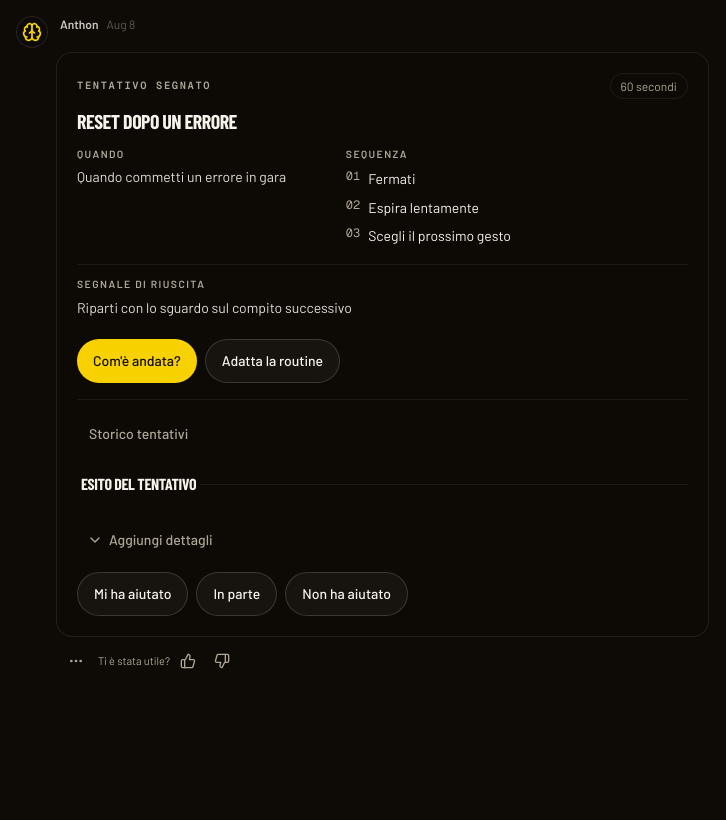
Test: MessageList rendered interactions › renders a canonical hydrated card without retaining unsafe attachment fields
Click the button "Aggiungi dettagli" at (150, 540), box [77,520,223,560]
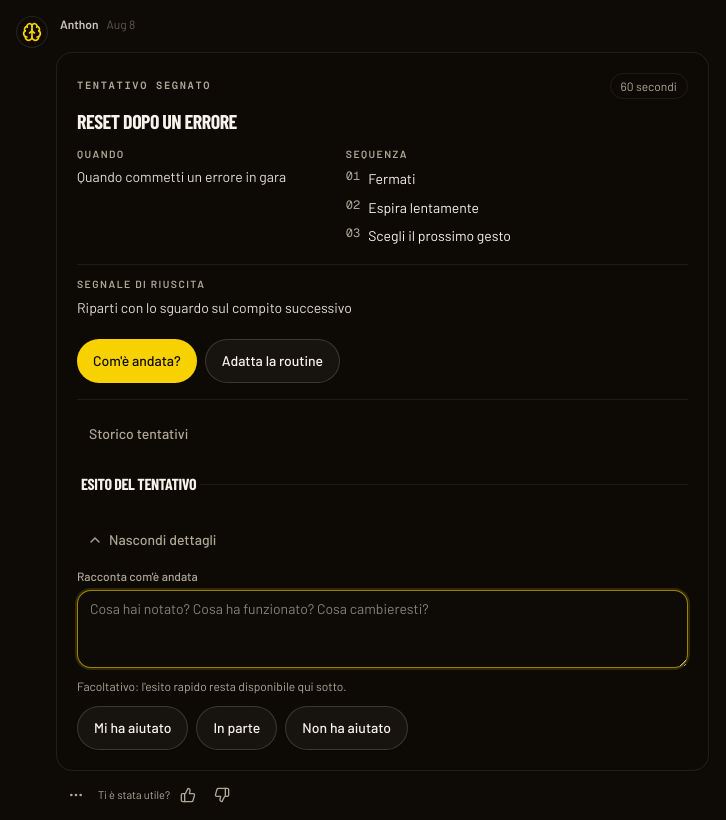
Expected: the text box labelled "Racconta com'è andata" is shown, [77,590,688,668]
